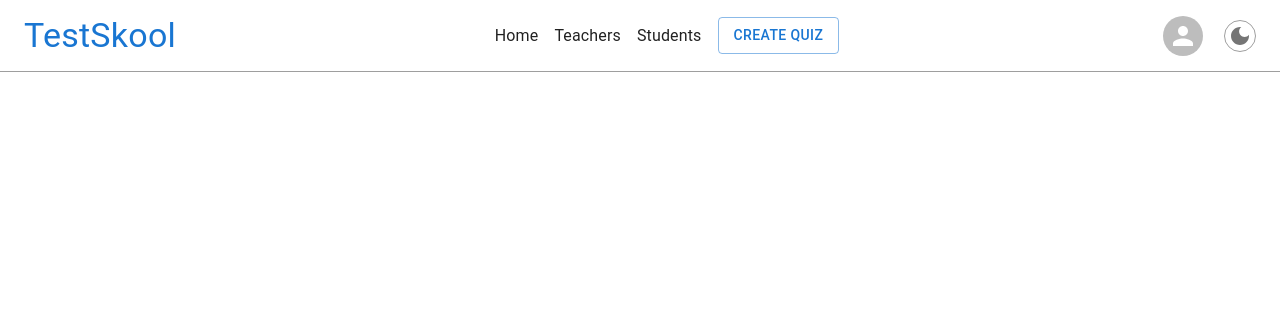
Test: Routing tests with user interaction after request › Should render Profile button elements.
Click the button named "Your Account": click(1183, 36) [1158,10,1208,60]
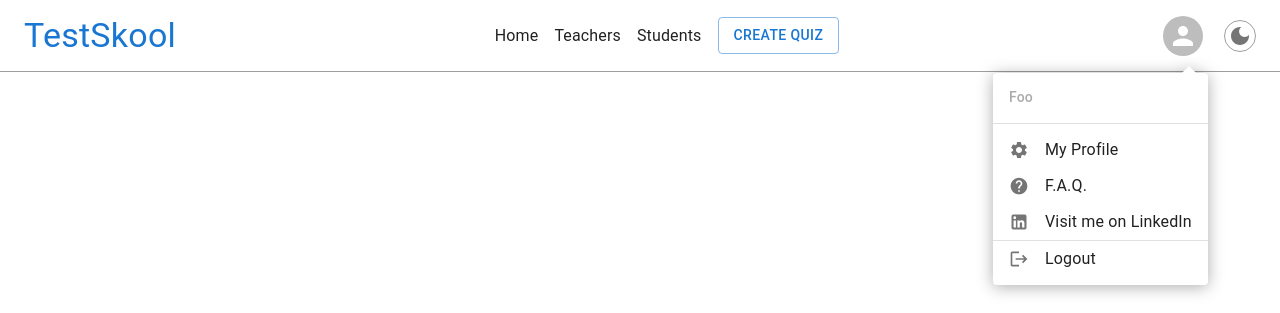
Now the link "My Profile" is shown, box [1009,140,1118,160]
Now the link "F.A.Q." is shown, box [1009,176,1087,196]
Now the menu item "Logout" is shown, box [1009,249,1096,269]
